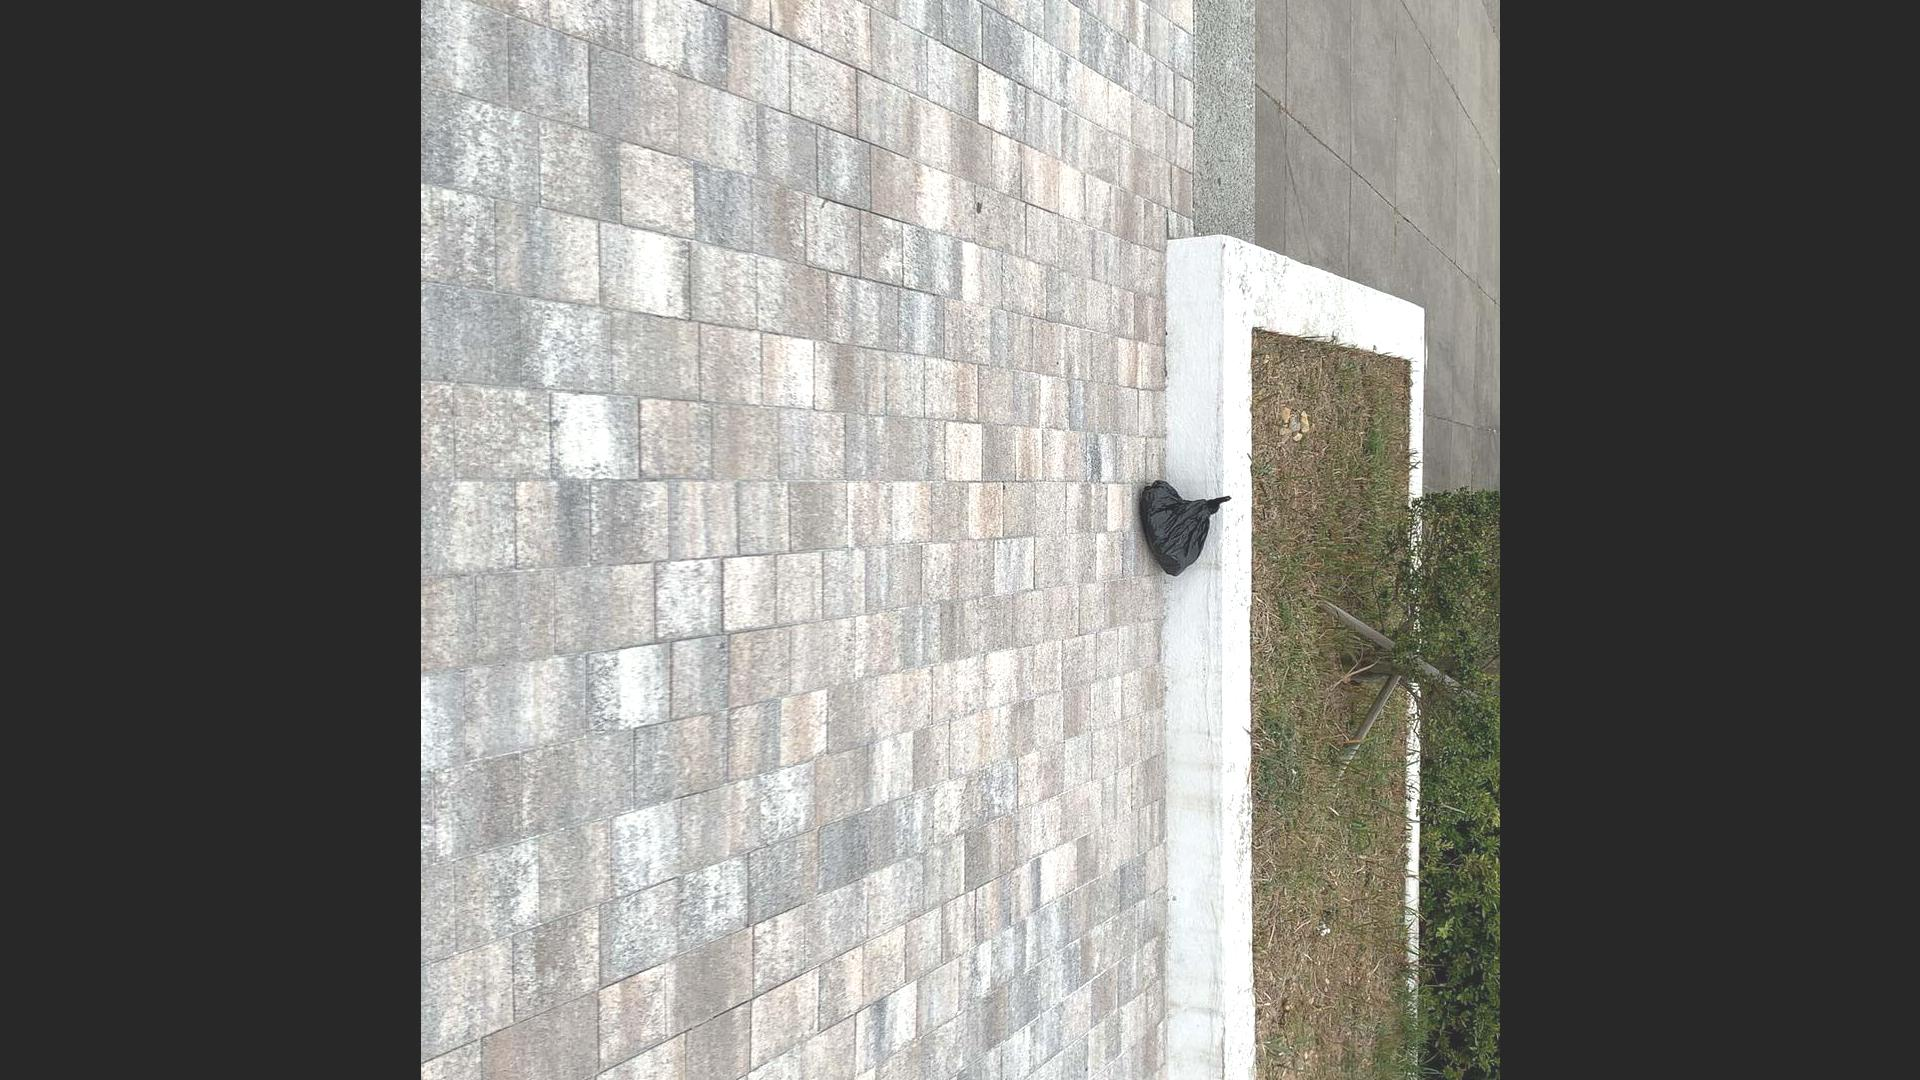black_bag: (1134, 475, 1236, 582)
